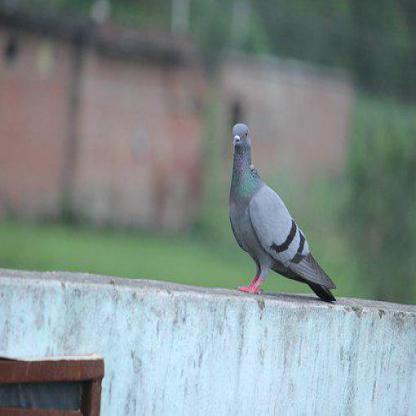Flying Rat: (224, 123, 332, 292)
